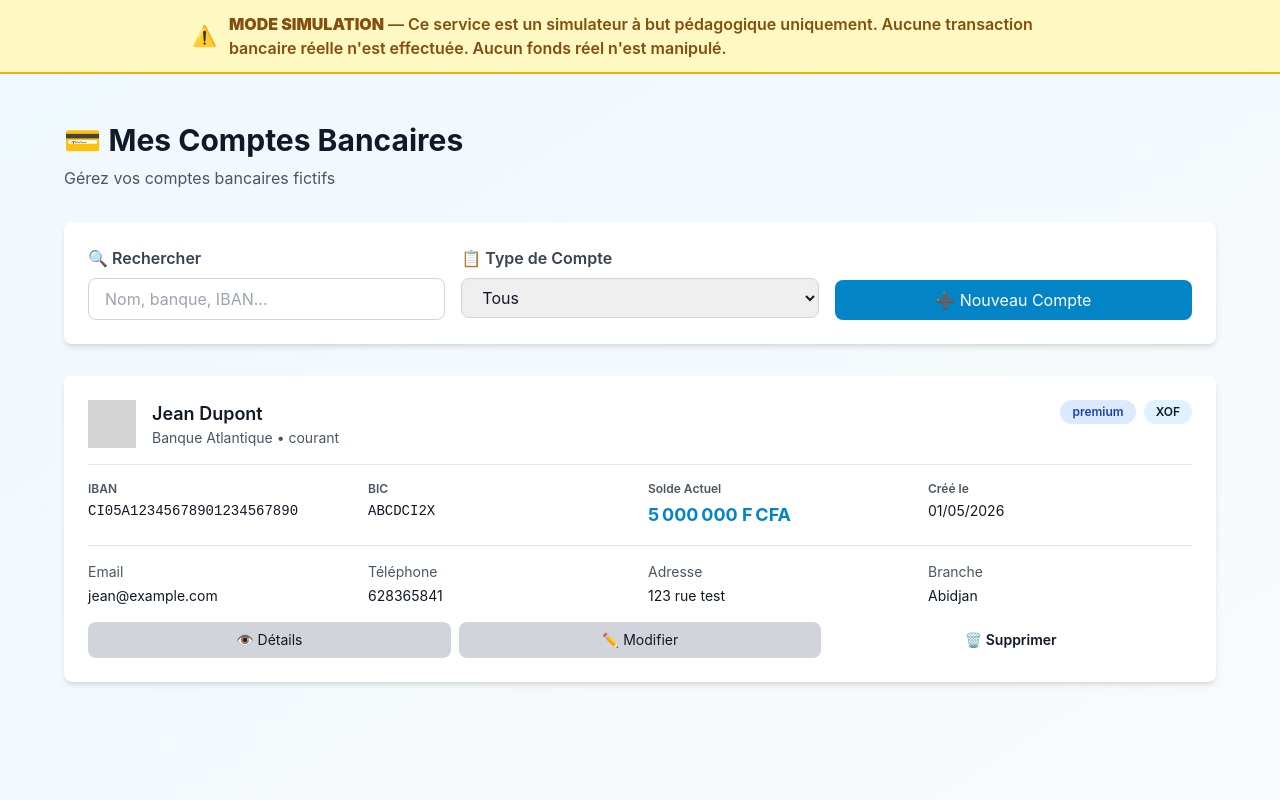
Test: BankAccountPage › Create Account Button › should open form when create button clicked
The image size is (1280, 800).
Click the button "➕ Nouveau Compte". click: point(1013, 300)
box: x1=835 y1=280 x2=1192 y2=320
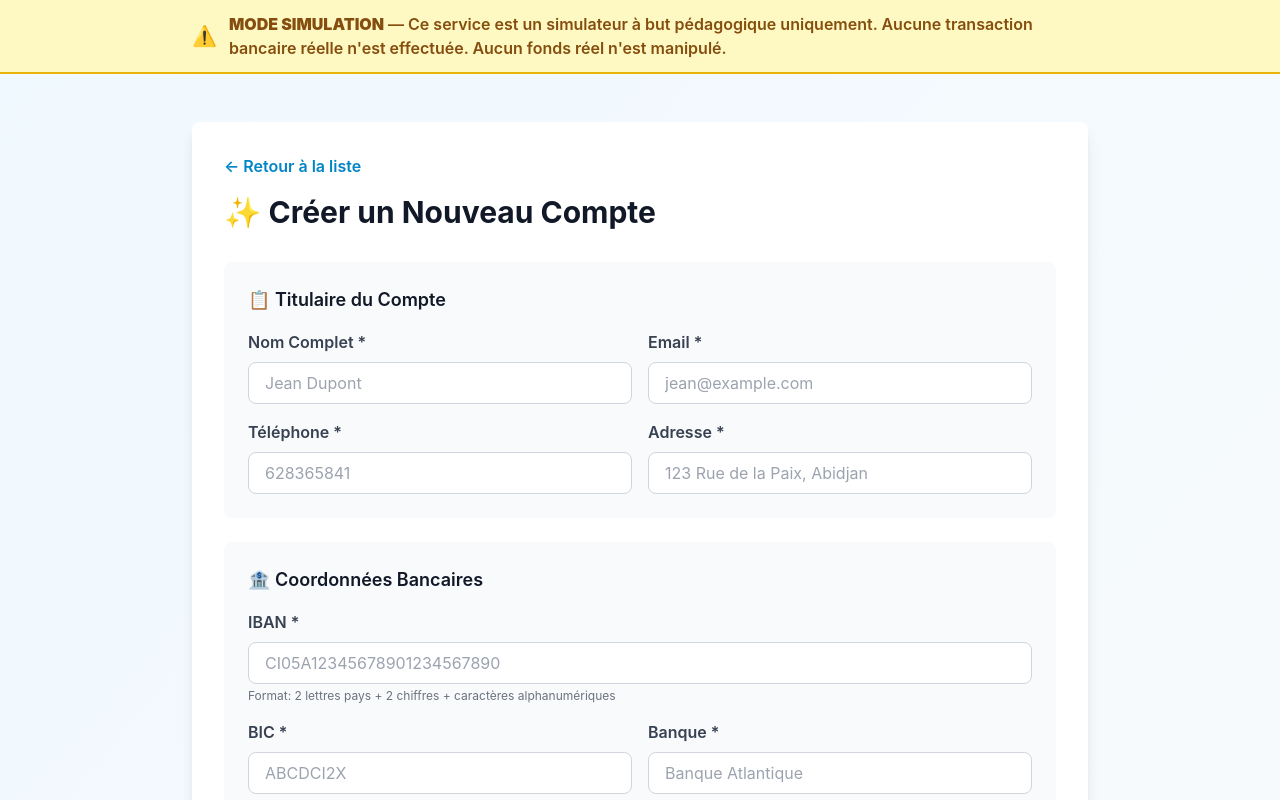
expect the heading "✨ Créer un Nouveau Compte" is shown: met, box x1=224 y1=194 x2=656 y2=230
